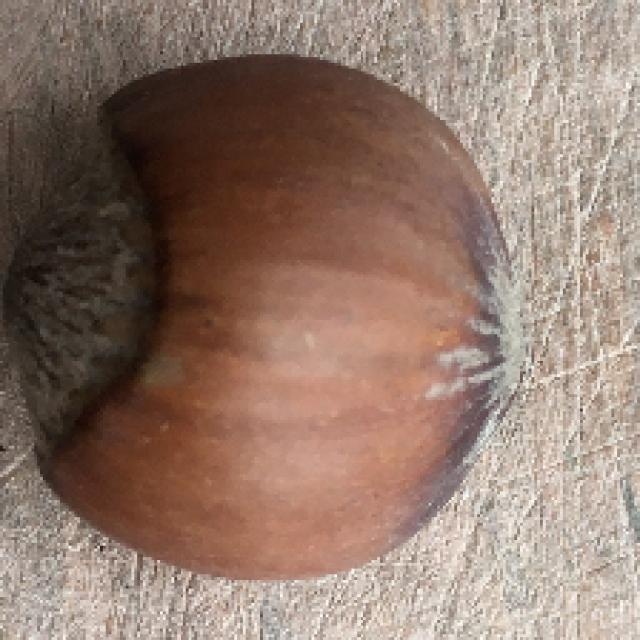damagedHazelnut: (6, 49, 521, 588)
